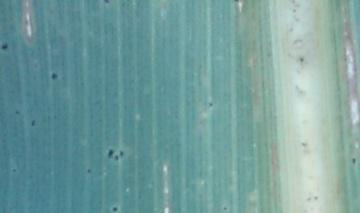tarspot: (49, 68, 59, 79), (1, 41, 10, 51), (107, 146, 114, 158), (29, 117, 37, 127), (298, 139, 308, 147), (117, 148, 125, 157), (13, 108, 21, 115), (312, 193, 319, 201), (86, 165, 92, 174), (298, 56, 305, 63), (113, 154, 119, 162), (208, 100, 214, 108), (351, 156, 357, 164), (11, 166, 17, 173), (113, 205, 119, 211), (223, 205, 228, 211), (102, 1, 111, 4), (231, 1, 240, 3)
